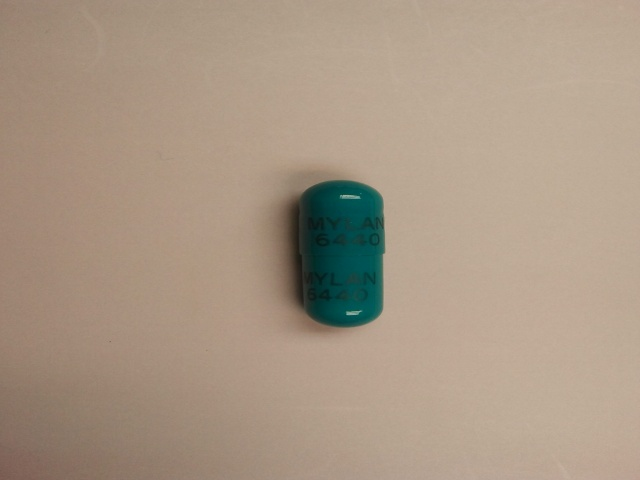capsule: (297, 179, 386, 331)
